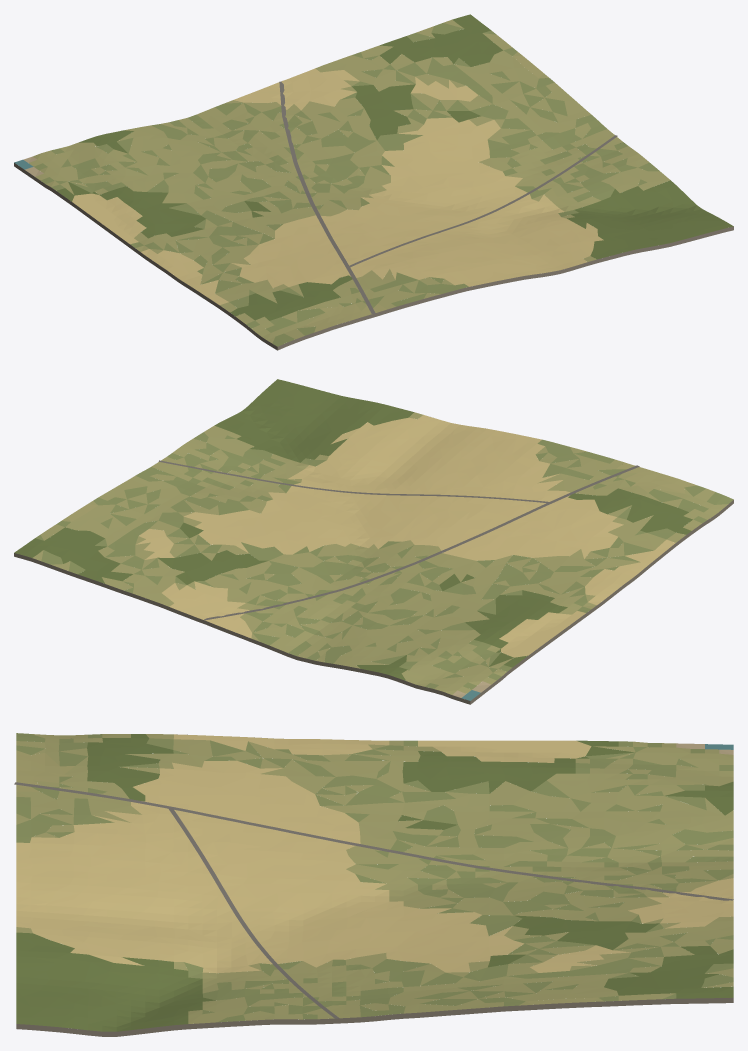
The model's file is parca_-3_-3-uzak.glb.
3 renders of one model, top to bottom at view 1: azimuth 30°, elevation 25°; view 2: azimuth 150°, elevation 25°; view 3: azimuth 270°, elevation 25°, orthographic. The views are drawn at different scales.
Visible parts, largest first — view 1: parca_-3_-3_arazi_uzak, parca_-3_-3_yollar_uzak; view 2: parca_-3_-3_arazi_uzak, parca_-3_-3_yollar_uzak; view 3: parca_-3_-3_arazi_uzak, parca_-3_-3_yollar_uzak.
Part boxes in pixels (x1,y1,x2,y2): parca_-3_-3_arazi_uzak: [14, 14, 733, 350]; parca_-3_-3_yollar_uzak: [279, 81, 617, 313]; parca_-3_-3_arazi_uzak: [14, 379, 733, 704]; parca_-3_-3_yollar_uzak: [158, 460, 639, 620]; parca_-3_-3_arazi_uzak: [16, 733, 733, 1036]; parca_-3_-3_yollar_uzak: [14, 782, 733, 1018].
Size of the model in its own units: 1003 by 85.09 by 1004.
